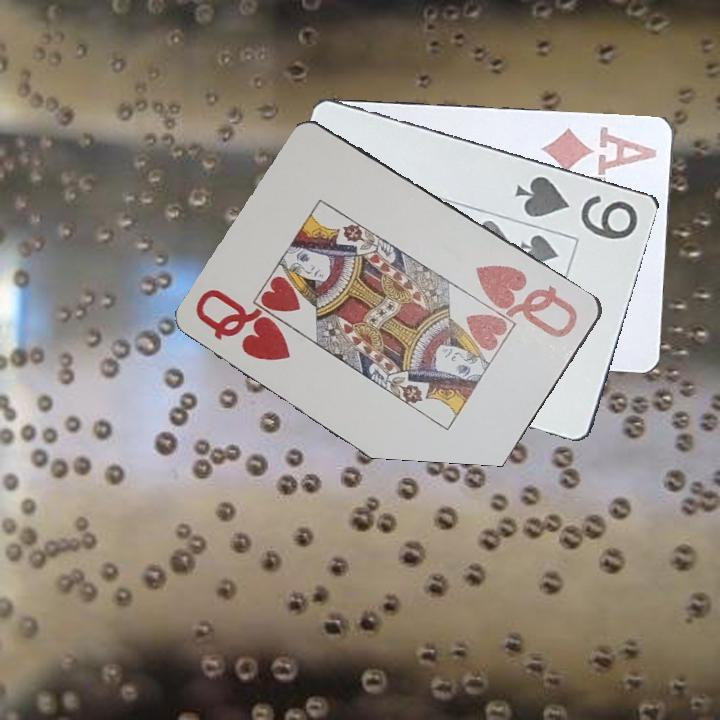9s: (511, 172, 642, 242)
Ad: (538, 122, 660, 175)
Qh: (472, 260, 582, 341), (192, 285, 294, 364)
